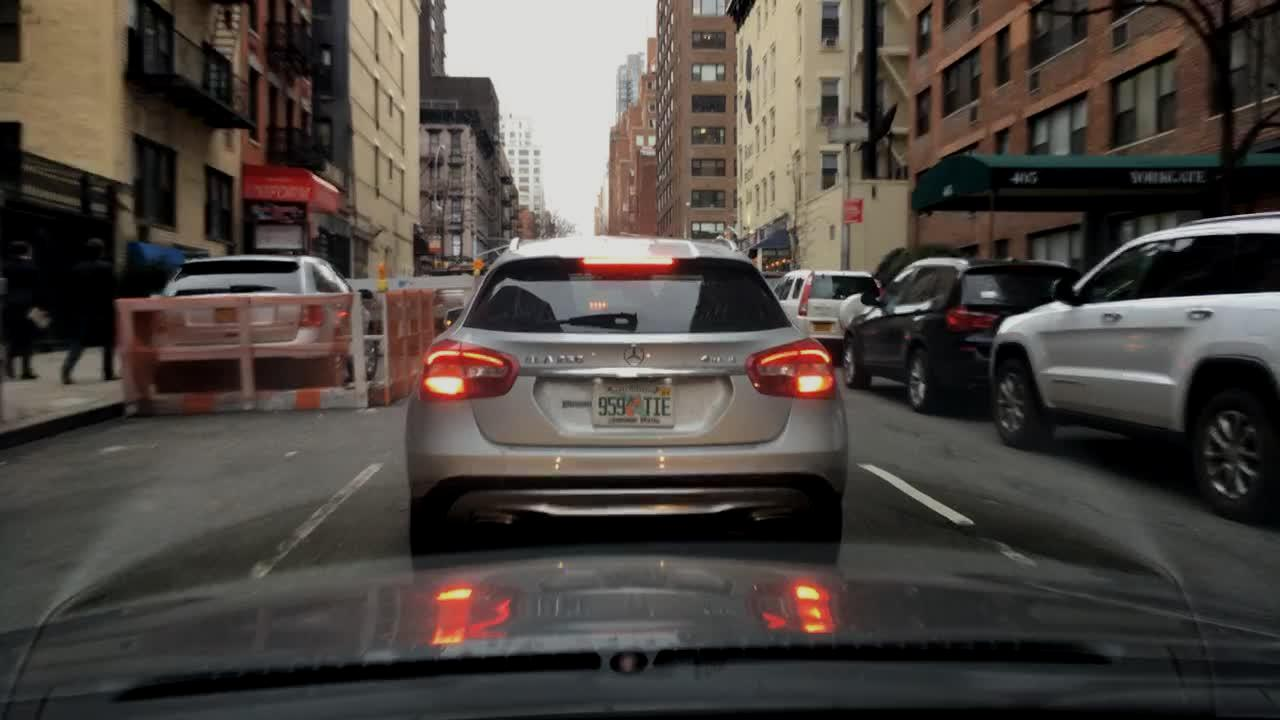Mercedes: (619, 343, 650, 369)
